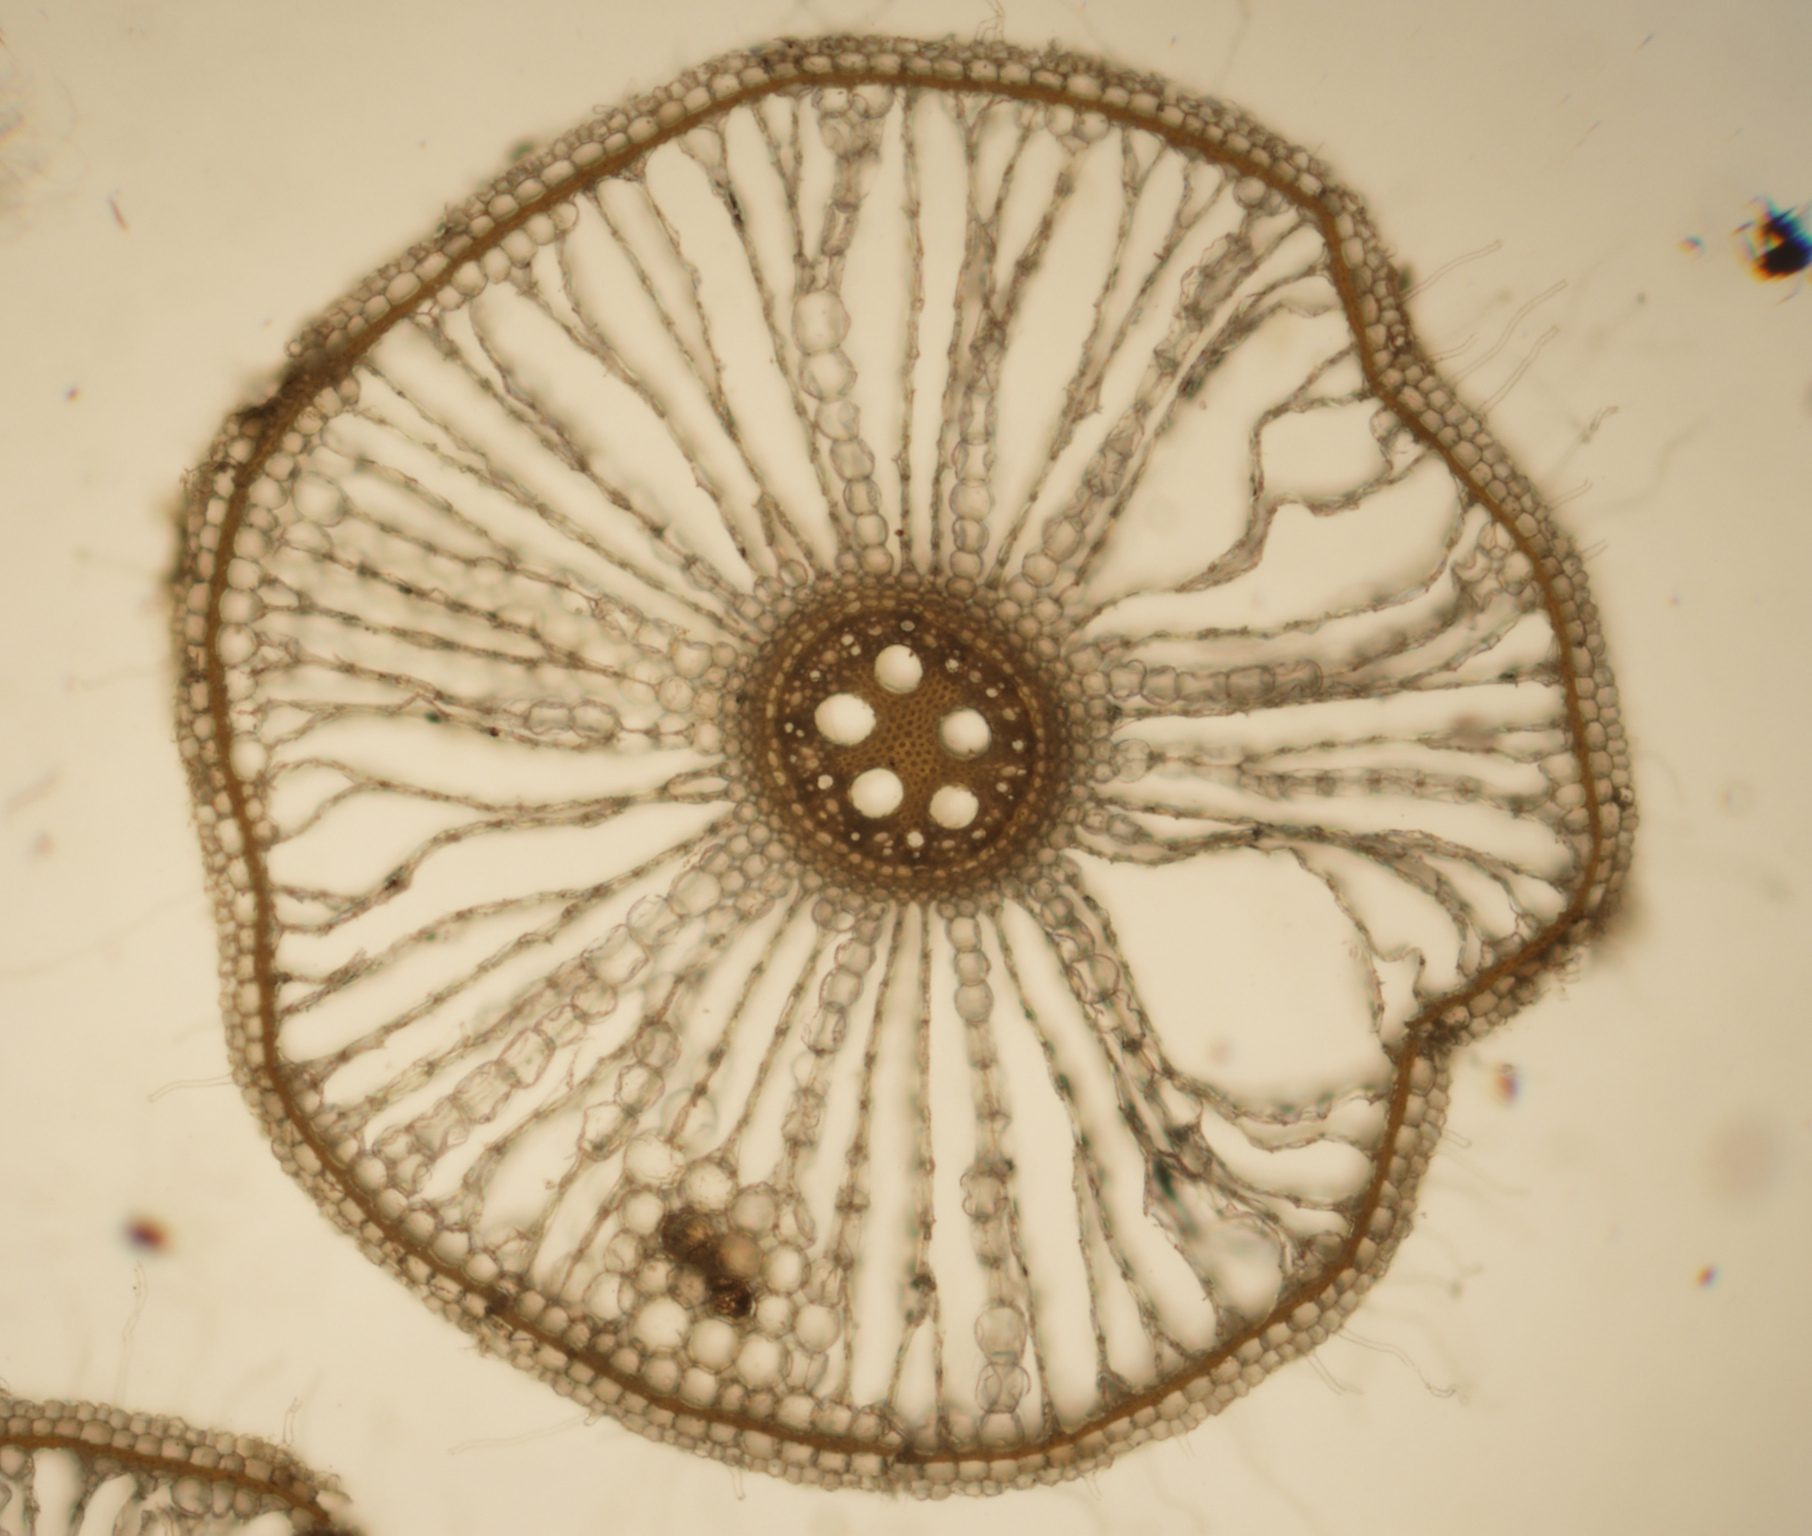lm: (814, 692, 876, 747), (939, 709, 992, 760), (850, 766, 904, 818), (875, 645, 924, 693), (930, 783, 978, 830)
